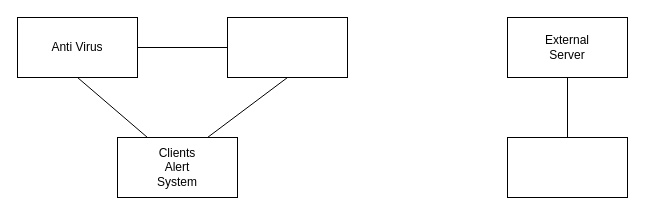
The diagram is 645 pixels wide and 215 high, and some of its shapes have lost their labels. The shapes that lost their labels are listed below. From the top down, each one's centre as x and y in pixels, then its label:
At point (287, 47): "Server".
At point (567, 167): "Virus".
